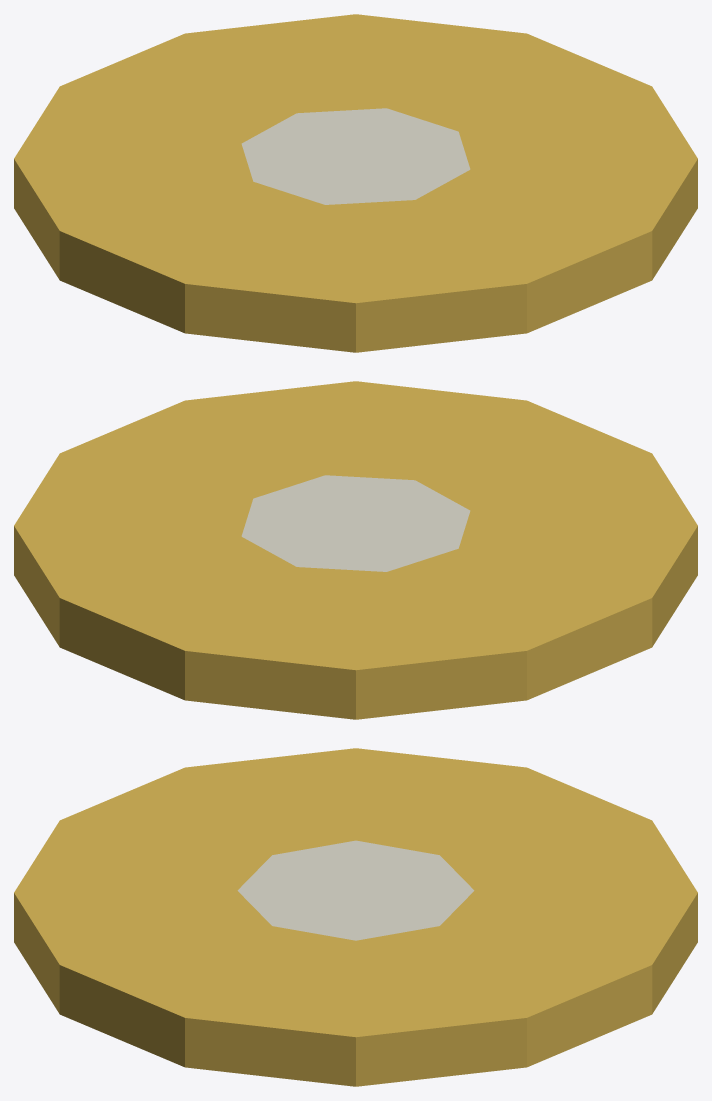
File: disco_1975.glb
3 renders of one model, top to bottom at view 1: azimuth 30°, elevation 25°; view 2: azimuth 150°, elevation 25°; view 3: azimuth 270°, elevation 25°, orthographic.
Visible parts, largest first — view 1: Malha_0; view 2: Malha_0; view 3: Malha_0.
Part boxes in pixels (x1=…): Malha_0: x1=14, y1=14, x2=697, y2=352; Malha_0: x1=14, y1=381, x2=697, y2=719; Malha_0: x1=14, y1=748, x2=697, y2=1086.
Bounding box in the file's own units: 0.15 × 0.0125 × 0.15.
